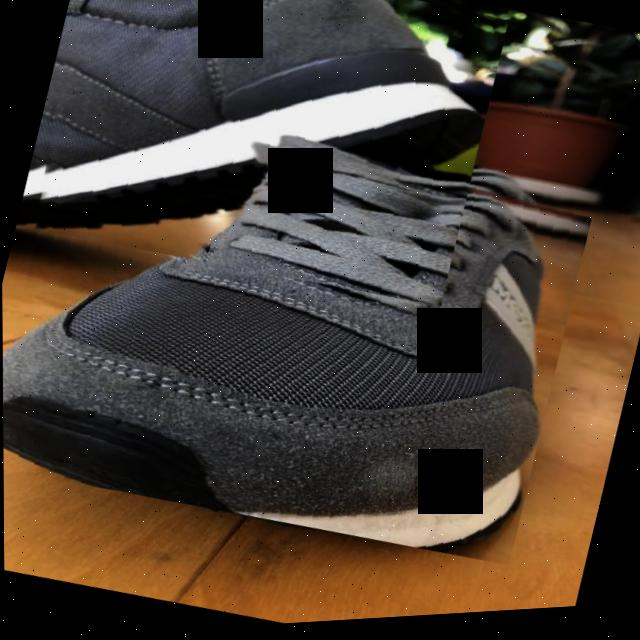shoe: (1, 59, 600, 594), (14, 0, 513, 331)
